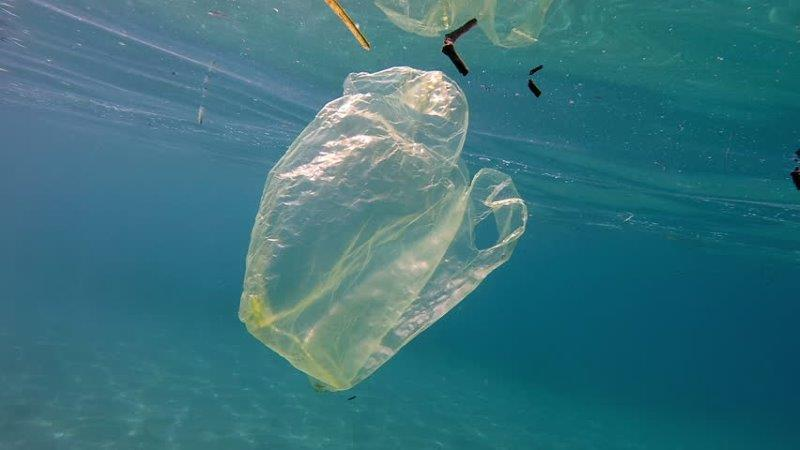plastic: (238, 63, 526, 395)
